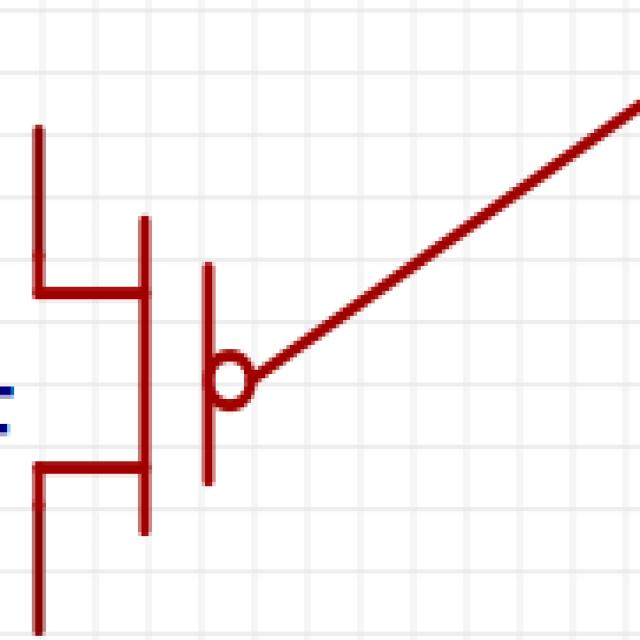pmos: (0, 21, 640, 619)
